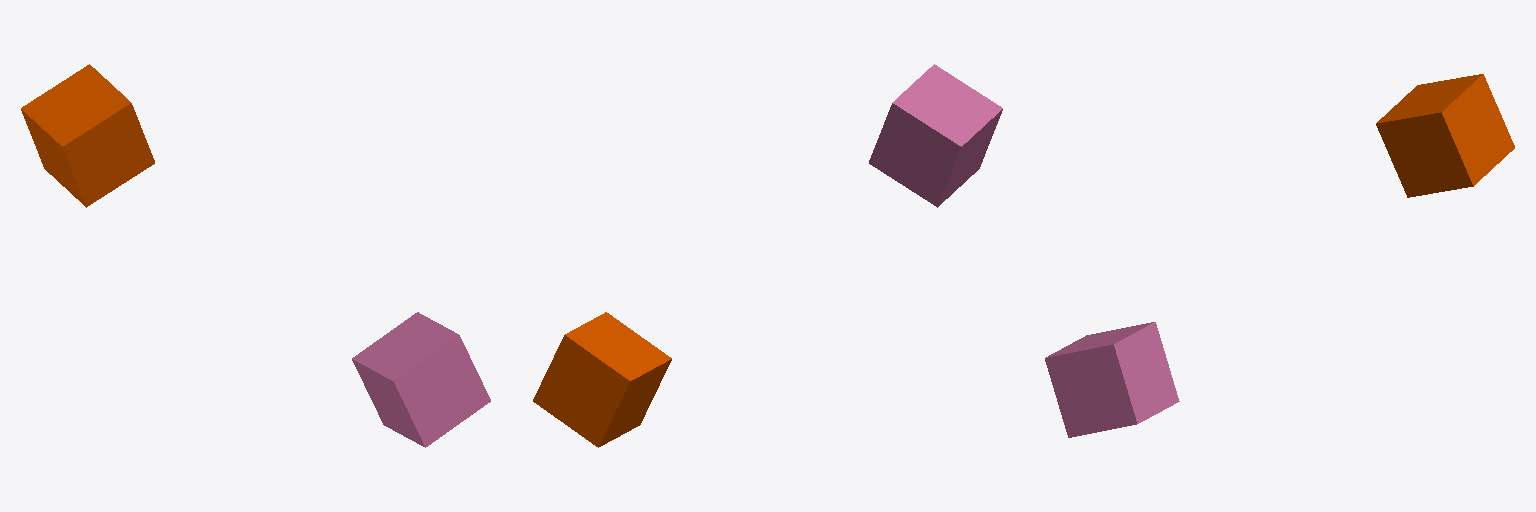
URDF robot description (digit):
<?xml version="1.0" encoding="utf-8"?>
<robot name="digit">
  <link name="torso">
    <inertial>
      <origin rpy="0 0 0" xyz="0.001637 0.0002 0.259547"/>
      <mass value="15.028392"/>
      <inertia ixx="0.376284" ixy="-8.8e-05" ixz="0.008378" iyy="0.342655" iyz="6.7e-05" izz="0.100648"/>
    </inertial>
    <visual>
      <origin rpy="0 0 0" xyz="0 0 0"/>
      <geometry>
        <mesh filename="package://torso.obj"/>
      </geometry>
    </visual>
    <collision>
      <origin rpy="0 0 0" xyz="0 0 0"/>
      <geometry>
        <mesh filename="package://torso.obj"/>
      </geometry>
    </collision>
  </link>

  <link name="left_shoulder_roll">
    <inertial>
      <origin rpy="0 0 0" xyz="9e-06 -0.003158 0.023405"/>
      <mass value="0.535396"/>
      <inertia ixx="0.000704" ixy="1.4e-05" ixz="1.2e-05" iyy="0.00075" iyz="3.5e-05" izz="0.000298"/>
    </inertial>
    <visual>
      <origin rpy="0 0 0" xyz="0 0 0"/>
      <geometry>
        <mesh filename="package://arm-L1.obj"/>
      </geometry>
    </visual>
    <collision>
      <origin rpy="0 0 0" xyz="0 0 0"/>
      <geometry>
        <mesh filename="package://arm-L1.obj"/>
      </geometry>
    </collision>
  </link>
  <link name="left_shoulder_cap">
    <inertial>
      <origin rpy="0 0 0" xyz="9e-06 -0.003158 0.023405"/>
      <mass value="0.535396"/>
      <inertia ixx="0.000704" ixy="1.4e-05" ixz="1.2e-05" iyy="0.00075" iyz="3.5e-05" izz="0.000298"/>
    </inertial>
    <visual>
      <origin rpy="0 0 0" xyz="0 0 0"/>
      <geometry>
        <mesh filename="package://shoulder-roll-housing.obj"/>
      </geometry>
    </visual>
    <collision>
      <origin rpy="0 0 0" xyz="0 0 0"/>
      <geometry>
        <mesh filename="package://shoulder-roll-housing.obj"/>
      </geometry>
    </collision>
  </link>
  <link name="left_waist_cap">
    <inertial>
      <origin rpy="0 0 0" xyz="9e-06 -0.003158 0.023405"/>
      <mass value="0.535396"/>
      <inertia ixx="0.000704" ixy="1.4e-05" ixz="1.2e-05" iyy="0.00075" iyz="3.5e-05" izz="0.000298"/>
    </inertial>
    <visual>
      <origin rpy="0 0 0" xyz="0 0 0"/>
      <geometry>
        <mesh filename="package://shoulder-roll-housing.obj"/>
      </geometry>
    </visual>
    <collision>
      <origin rpy="0 0 0" xyz="0 0 0"/>
      <geometry>
        <mesh filename="package://shoulder-roll-housing.obj"/>
      </geometry>
    </collision>
  </link>
  <link name="left_shoulder_pitch">
    <inertial>
      <origin rpy="0 0 0" xyz="-4.2e-05 -0.061882 -0.073788"/>
      <mass value="1.440357"/>
      <inertia ixx="0.006761" ixy="-6e-06" ixz="-3e-06" iyy="0.002087" iyz="-0.002046" izz="0.005778"/>
    </inertial>
    <visual>
      <origin rpy="0 0 0" xyz="0 0 0"/>
      <geometry>
        <mesh filename="package://arm-L2.obj"/>
      </geometry>
    </visual>
    <collision>
      <origin rpy="0 0 0" xyz="0 0 0"/>
      <geometry>
        <mesh filename="package://arm-L2.obj"/>
      </geometry>
    </collision>
  </link>
  <link name="left_shoulder_yaw">
    <inertial>
      <origin rpy="0 0 0" xyz="-3e-05 -0.001937 0.11407"/>
      <mass value="1.065387"/>
      <inertia ixx="0.006967" ixy="1e-06" ixz="-1e-06" iyy="0.007003" iyz="1.5e-05" izz="0.000673"/>
    </inertial>
    <visual>
      <origin rpy="0 0 0" xyz="0 0 0"/>
      <geometry>
        <mesh filename="package://arm-L3.obj"/>
      </geometry>
    </visual>
    <collision>
      <origin rpy="0 0 0" xyz="0 0 0"/>
      <geometry>
        <mesh filename="package://arm-L3.obj"/>
      </geometry>
    </collision>
  </link>
  <link name="left_elbow">
    <inertial>
      <origin rpy="0 0 0" xyz="0.107996 -0.000521 -0.017765"/>
      <mass value="0.550582"/>
      <inertia ixx="0.000476" ixy="2.9e-05" ixz="0.001403" iyy="0.009564" iyz="1.5e-05" izz="-9e-06"/>
    </inertial>
    <visual>
      <origin rpy="0 0 0" xyz="0 0 0"/>
      <geometry>
        <mesh filename="package://arm-L4.obj"/>
      </geometry>
    </visual>
    <collision>
      <origin rpy="0 0 0" xyz="0 0 0"/>
      <geometry>
        <mesh filename="package://arm-L4.obj"/>
      </geometry>
    </collision>
  </link>


  <link name="right_shoulder_roll">
    <inertial>
      <origin rpy="0 0 0" xyz="9e-06 0.003158 0.023405"/>
      <mass value="0.535396"/>
      <inertia ixx="0.000704" ixy="-1.4e-05" ixz="1.2e-05" iyy="0.00075" iyz="-3.5e-05" izz="0.000298"/>
    </inertial>
    <visual>
      <origin rpy="0 0 0" xyz="0 0 0"/>
      <geometry>
        <mesh filename="package://arm-L1.obj" scale="1 -1 1"/>
      </geometry>
    </visual>
    <collision>
      <origin rpy="0 0 0" xyz="0 0 0"/>
      <geometry>
        <mesh filename="package://arm-L1.obj" scale="1 -1 1"/>
      </geometry>
    </collision>
  </link>
  <link name="right_shoulder_cap">
    <inertial>
      <origin rpy="0 0 0" xyz="9e-06 0.003158 0.023405"/>
      <mass value="0.535396"/>
      <inertia ixx="0.000704" ixy="-1.4e-05" ixz="1.2e-05" iyy="0.00075" iyz="-3.5e-05" izz="0.000298"/>
    </inertial>
    <visual>
      <origin rpy="0 0 0" xyz="0 0 0"/>
      <geometry>
        <mesh filename="package://shoulder-roll-housing.obj" scale="1 -1 1"/>
      </geometry>
    </visual>
    <collision>
      <origin rpy="0 0 0" xyz="0 0 0"/>
      <geometry>
        <mesh filename="package://shoulder-roll-housing.obj" scale="1 -1 1"/>
      </geometry>
    </collision>
  </link>
  <link name="right_waist_cap">
    <inertial>
      <origin rpy="0 0 0" xyz="9e-06 0.003158 0.023405"/>
      <mass value="0.535396"/>
      <inertia ixx="0.000704" ixy="-1.4e-05" ixz="1.2e-05" iyy="0.00075" iyz="-3.5e-05" izz="0.000298"/>
    </inertial>
    <visual>
      <origin rpy="0 0 0" xyz="0 0 0"/>
      <geometry>
        <mesh filename="package://shoulder-roll-housing.obj" scale="1 -1 1"/>
      </geometry>
    </visual>
    <collision>
      <origin rpy="0 0 0" xyz="0 0 0"/>
      <geometry>
        <mesh filename="package://shoulder-roll-housing.obj" scale="1 -1 1"/>
      </geometry>
    </collision>
  </link>
  <link name="right_shoulder_pitch">
    <inertial>
      <origin rpy="0 0 0" xyz="-4.2e-05 0.061882 -0.073788"/>
      <mass value="1.440357"/>
      <inertia ixx="0.006761" ixy="6e-06" ixz="-3e-06" iyy="0.002087" iyz="0.002046" izz="0.005778"/>
    </inertial>
    <visual>
      <origin rpy="0 0 0" xyz="0 0 0"/>
      <geometry>
        <mesh filename="package://arm-L2.obj" scale="1 -1 1"/>
      </geometry>
    </visual>
    <collision>
      <origin rpy="0 0 0" xyz="0 0 0"/>
      <geometry>
        <mesh filename="package://arm-L2.obj" scale="1 -1 1"/>
      </geometry>
    </collision>
  </link>
  <link name="right_shoulder_yaw">
    <inertial>
      <origin rpy="0 0 0" xyz="-3e-05 0.001937 0.11407"/>
      <mass value="1.065387"/>
      <inertia ixx="0.006967" ixy="-1e-06" ixz="-1e-06" iyy="0.007003" iyz="-1.5e-05" izz="0.000673"/>
    </inertial>
    <visual>
      <origin rpy="0 0 0" xyz="0 0 0"/>
      <geometry>
        <mesh filename="package://arm-L3.obj" scale="1 -1 1"/>
      </geometry>
    </visual>
    <collision>
      <origin rpy="0 0 0" xyz="0 0 0"/>
      <geometry>
        <mesh filename="package://arm-L3.obj" scale="1 -1 1"/>
      </geometry>
    </collision>
  </link>
  <link name="right_elbow">
    <inertial>
      <origin rpy="0 0 0" xyz="0.107996 0.000521 -0.017765"/>
      <mass value="0.550582"/>
      <inertia ixx="0.000476" ixy="-2.9e-05" ixz="0.001403" iyy="0.009564" iyz="-1.5e-05" izz="-9e-06"/>
    </inertial>
    <visual>
      <origin rpy="0 0 0" xyz="0 0 0"/>
      <geometry>
        <mesh filename="package://arm-L4.obj" scale="1 -1 1"/>
      </geometry>
    </visual>
    <collision>
      <origin rpy="0 0 0" xyz="0 0 0"/>
      <geometry>
        <mesh filename="package://arm-L4.obj" scale="1 -1 1"/>
      </geometry>
    </collision>
  </link>
  <link name="left_wrist">
    <inertial>
      <origin rpy="0 0 0" xyz="0.0 0.0 0.0"/>
      <mass value="0.50469"/>
      <inertia ixx="0.000476" ixy="2.9e-05" ixz="0.001403" iyy="0.009564" iyz="1.5e-05" izz="-9e-06"/>
    </inertial>
    <visual>
      <origin rpy="0 0 0" xyz="0 0 0"/>
      <geometry>
        <box size="0.05 0.05 0.05"/>
      </geometry>
    </visual>
    <collision>
      <origin rpy="0 0 0" xyz="0 0 0"/>
      <geometry>
        <box size="0.05 0.05 0.05"/>
      </geometry>
    </collision>
  </link>
  <link name="right_wrist">
    <inertial>
      <origin rpy="0 0 0" xyz="0.0 0.0 0.0"/>
      <mass value="0.50469"/>
      <inertia ixx="0.000476" ixy="2.9e-05" ixz="0.001403" iyy="0.009564" iyz="1.5e-05" izz="-9e-06"/>
    </inertial>
    <visual>
      <origin rpy="0 0 0" xyz="0 0 0"/>
      <geometry>
        <box size="0.05 0.05 0.05"/>
      </geometry>
    </visual>
    <collision>
      <origin rpy="0 0 0" xyz="0 0 0"/>
      <geometry>
        <box size="0.05 0.05 0.05"/>
      </geometry>
    </collision>
  </link>

  <joint name="left-shoulder-roll" type="revolute">
    <origin rpy="-1.57079632679 -1.3962633 1.57079632679" xyz="-0.001 0.12 0.4"/>
    <axis xyz="0 0 1"/>
    <parent link="torso"/>
    <child link="left_shoulder_roll"/>
    <limit effort="1.4" lower="-1.309" upper="1.309" velocity="12.5"/>
  </joint>
  <joint name="shoulder_roll_cap_left" type="fixed">
    <origin rpy="-1.57079632679 -1.3962633 1.57079632679" xyz="0.001 0.12 0.4"/>
    <axis xyz="0 0 1"/>
    <parent link="torso"/>
    <child link="left_shoulder_cap"/>
    <limit effort="1.4" lower="-1.309" upper="1.309" velocity="12.5"/>
  </joint>
  <joint name="left-shoulder-pitch" type="revolute">
    <origin rpy="1.57079632679 0.785398163397 -0.2792527" xyz="-0.00317 -0.011055 0.0555"/>
    <axis xyz="0 0 -1"/>
    <parent link="left_shoulder_roll"/>
    <child link="left_shoulder_pitch"/>
    <limit effort="1.4" lower="-2.5307" upper="2.5307" velocity="12.5"/>
  </joint>
  <joint name="left-shoulder-yaw" type="revolute">
    <origin rpy="1.57079632679 0 0" xyz="0 -0.165 -0.1"/>
    <axis xyz="0 0 1"/>
    <parent link="left_shoulder_pitch"/>
    <child link="left_shoulder_yaw"/>
    <limit effort="1.4" lower="-1.7453" upper="1.7453" velocity="10"/>
  </joint>
  <joint name="left-elbow" type="revolute">
    <origin rpy="1.57079632679 -0.3926991 0" xyz="0 -0.0385 0.185"/>
    <axis xyz="0 0 1"/>
    <parent link="left_shoulder_yaw"/>
    <child link="left_elbow"/>
    <limit effort="1.4" lower="-1.3526" upper="1.3526" velocity="12.5"/>
  </joint>

  <joint name="right-shoulder-roll" type="revolute">
    <origin rpy="1.57079632679 -1.3962633 -1.57079632679" xyz="-0.001 -0.12 0.4"/>
    <axis xyz="0 0 1"/>
    <parent link="torso"/>
    <child link="right_shoulder_roll"/>
    <limit effort="1.4" lower="-1.309" upper="1.309" velocity="12.5"/>
  </joint>
  <joint name="shoulder_cap_joint_right" type="fixed">
    <origin rpy="1.57079632679 -1.3962633 -1.57079632679" xyz="0.001 -0.12 0.4"/>
    <axis xyz="0 0 1"/>
    <parent link="torso"/>
    <child link="right_shoulder_cap"/>
    <limit effort="1.4" lower="-1.309" upper="1.309" velocity="12.5"/>
  </joint>

  <joint name="waist_cap_joint_right" type="fixed">
    <origin rpy="1.57079632679 1.57 -1.57079632679" xyz="-0.001 -0.09 0.0"/>
    <axis xyz="0 0 1"/>
    <parent link="torso"/>
    <child link="left_waist_cap"/>
    <limit effort="1.4" lower="-1.309" upper="1.309" velocity="12.5"/>
  </joint>

  <joint name="waist_cap_joint_left" type="fixed">
    <origin rpy="-1.57079632679 1.57 1.57079632679" xyz="-0.001 0.09 0.0"/>
    <axis xyz="0 0 1"/>
    <parent link="torso"/>
    <child link="right_waist_cap"/>
    <limit effort="1.4" lower="-1.309" upper="1.309" velocity="12.5"/>
  </joint>

  <joint name="right-shoulder-pitch" type="revolute">
    <origin rpy="-1.57079632679 0.785398163397 0.2792527" xyz="-0.00317 0.011055 0.0555"/>
    <axis xyz="0 0 -1"/>
    <parent link="right_shoulder_roll"/>
    <child link="right_shoulder_pitch"/>
    <limit effort="1.4" lower="-2.5307" upper="2.5307" velocity="12.5"/>
  </joint>
  <joint name="right-shoulder-yaw" type="revolute">
    <origin rpy="-1.57079632679 0 0" xyz="0 0.165 -0.1"/>
    <axis xyz="0 0 1"/>
    <parent link="right_shoulder_pitch"/>
    <child link="right_shoulder_yaw"/>
    <limit effort="1.4" lower="-1.7453" upper="1.7453" velocity="10"/>
  </joint>
  <joint name="right-elbow" type="revolute">
    <origin rpy="-1.57079632679 -0.3926991 0" xyz="0 0.0385 0.185"/>
    <axis xyz="0 0 1"/>
    <parent link="right_shoulder_yaw"/>
    <child link="right_elbow"/>
    <limit effort="1.4" lower="-1.3526" upper="1.3526" velocity="12.5"/>
  </joint>
  <joint name="wrist_joint_left" type="fixed">
    <origin rpy="0.0 0.0 0.0" xyz="0.375 0.0 -0.06"/>
    <parent link="left_elbow"/>
    <child link="left_wrist"/>
  </joint>
  <joint name="wrist_joint_right" type="fixed">
    <origin rpy="0.0 0.0 0.0" xyz="0.375 0.0 -0.06"/>
    <parent link="right_elbow"/>
    <child link="right_wrist"/>
  </joint>

</robot>

--- Facts derived from the render (not from the file) ---
3 views of the same robot in one strip: view 1: azimuth 30°, elevation 25°; view 2: azimuth 150°, elevation 25°; view 3: azimuth 330°, elevation 25° (orthographic).
Model digit with 15 links and 14 joints (8 revolute, 6 fixed), rooted at torso, posed all joints at 0.
Links seen in each view (by area): view 1: left_wrist, right_wrist; view 2: right_wrist, left_wrist; view 3: left_wrist, right_wrist.
Link boxes in pixels (x1,y1,x2,y2): left_wrist: [21, 64, 154, 207]; right_wrist: [352, 312, 490, 447]; right_wrist: [869, 64, 1002, 207]; left_wrist: [533, 312, 671, 447]; left_wrist: [1376, 74, 1514, 197]; right_wrist: [1045, 322, 1179, 437].
Bounding box of the posed robot: 0.0653 × 0.4516 × 0.0702 m (x, y, z).
Geometry: only primitive shapes (box / cylinder / sphere) drawn; not drawn: 13 mesh visuals (reference in a form the renderer does not follow).